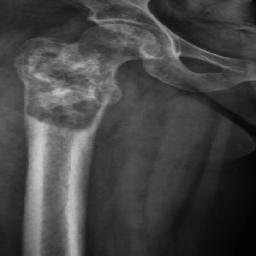cancer: (16, 25, 176, 132)
